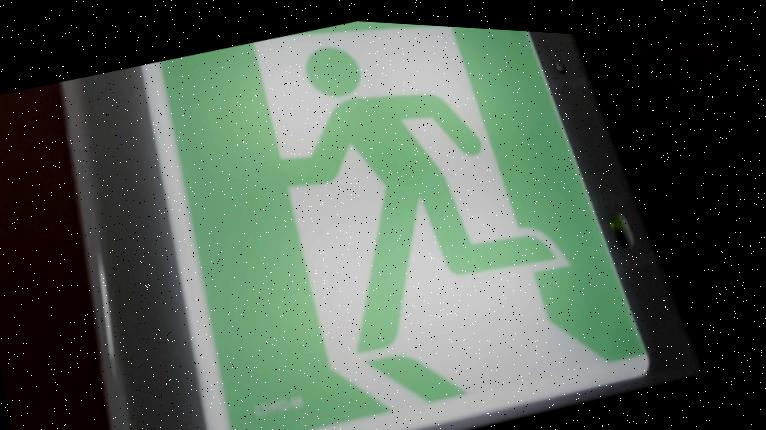emergency_exit: (4, 19, 699, 428)
